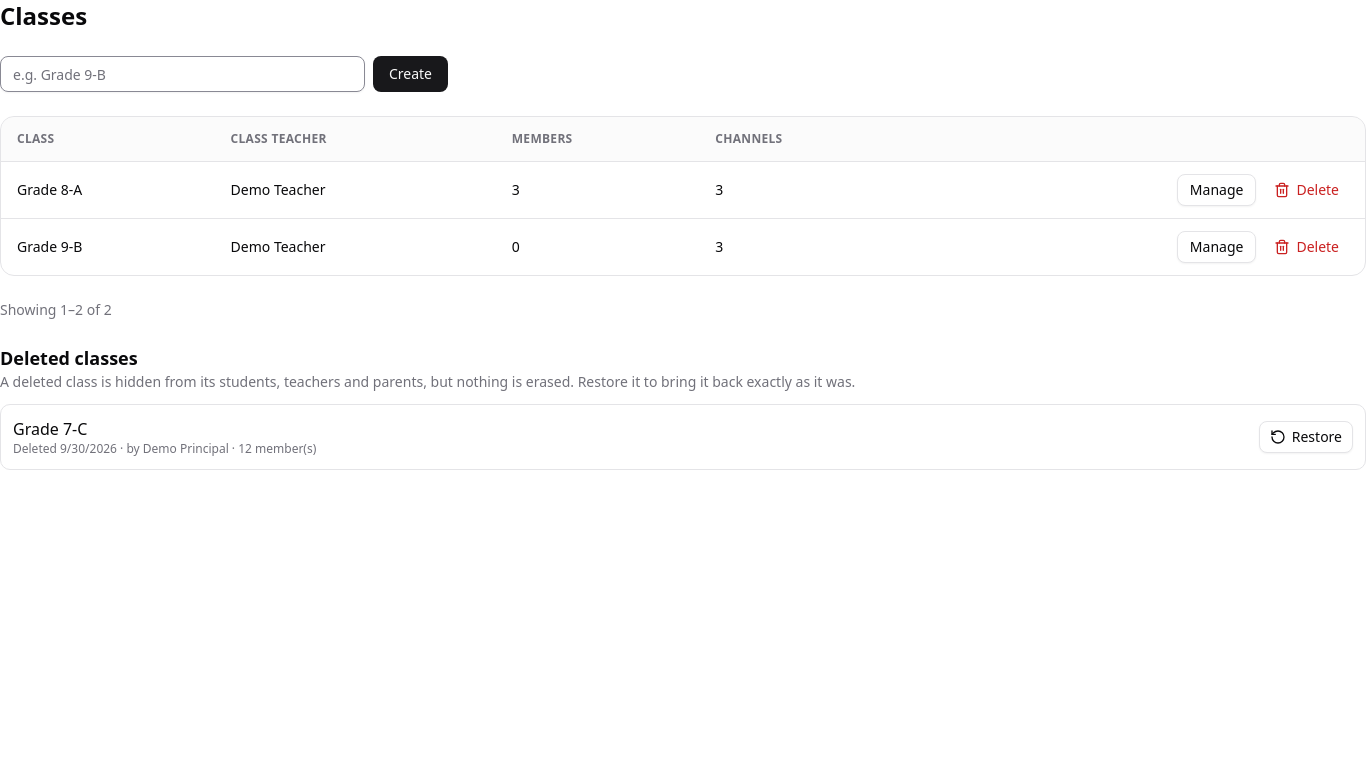
Test case: deleting a class › asks first, says what will happen, and does nothing if cancelled
The width and height of the screenshot is (1366, 768).
Click the button with aria-label "Delete Grade 8-A" at [1307, 190], box [1264,174,1349,206]
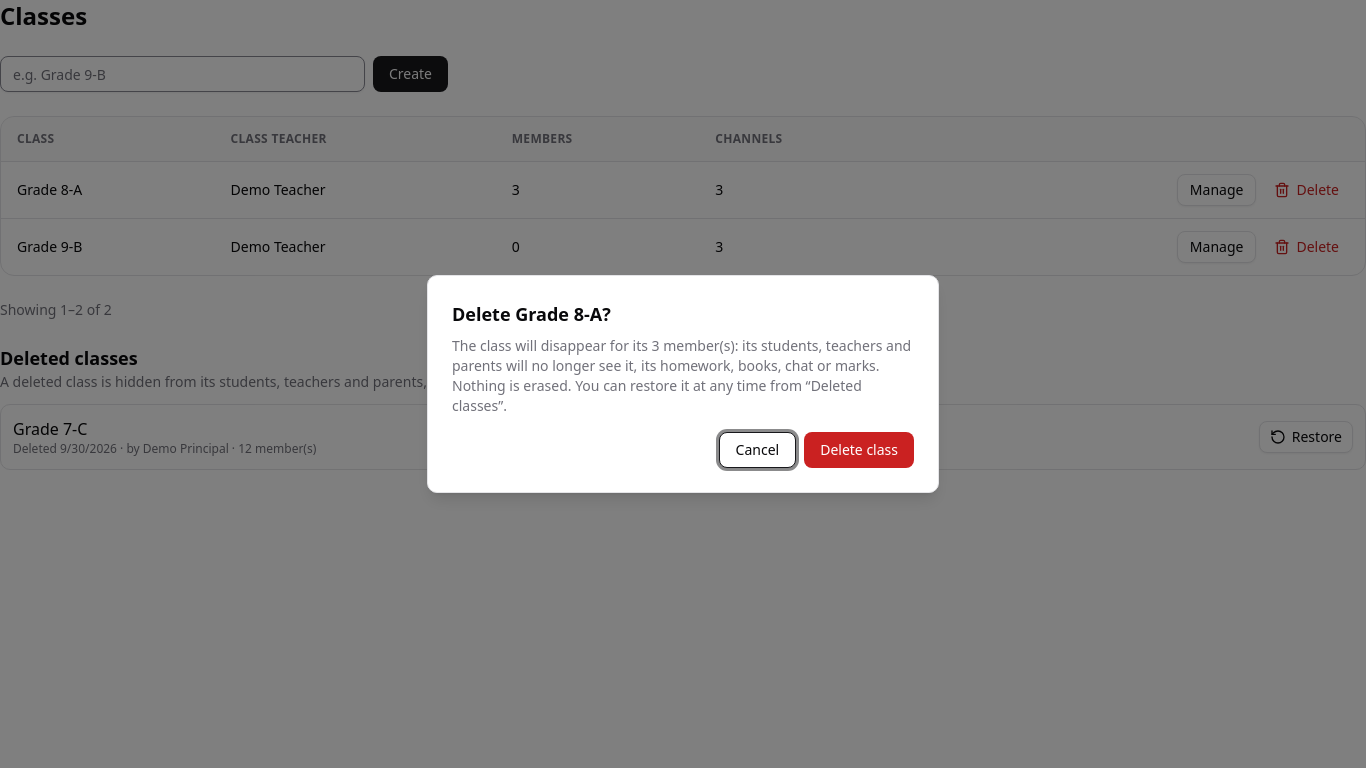
Expected: the heading "Delete Grade 8-A?" is shown, [452,302,611,326]
Expected: the dialog shows "3 member(s)", [452,336,911,415]
Expected: the dialog shows "Nothing is erased", [452,336,911,415]
Click the button "Cancel" at [757, 450], box [719,432,796,468]
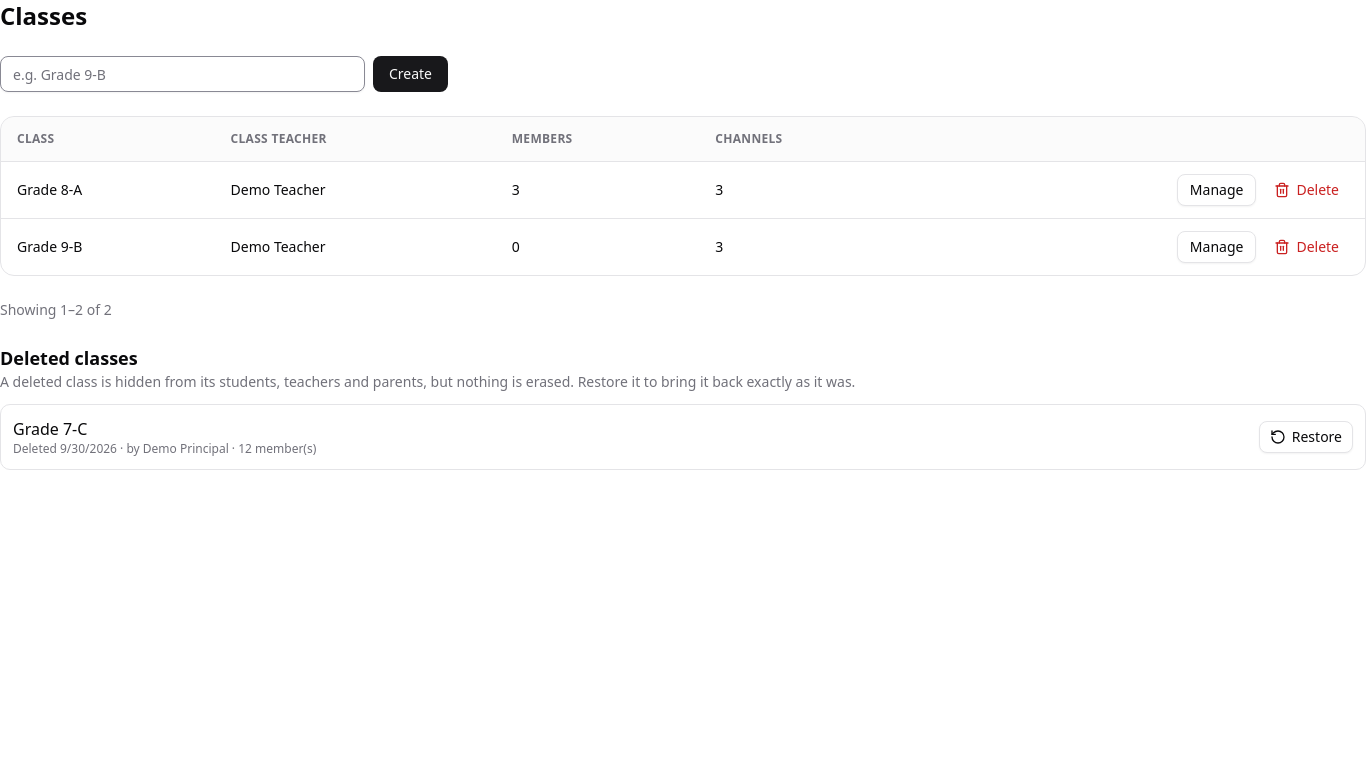
Expected: the dialog is gone
